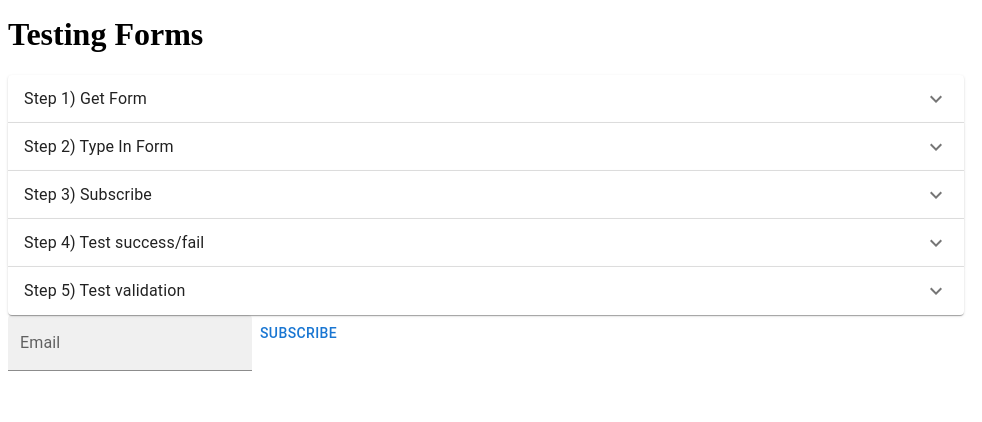
Test: Forms Test › test form failed submission
The width and height of the screenshot is (982, 422).
Expected: the heading with test id "testing-forms-header" reads "Testing Forms", [8,16,203,52]
In the field labelled "Email": (130, 343) [8,315,252,371], type "one@"
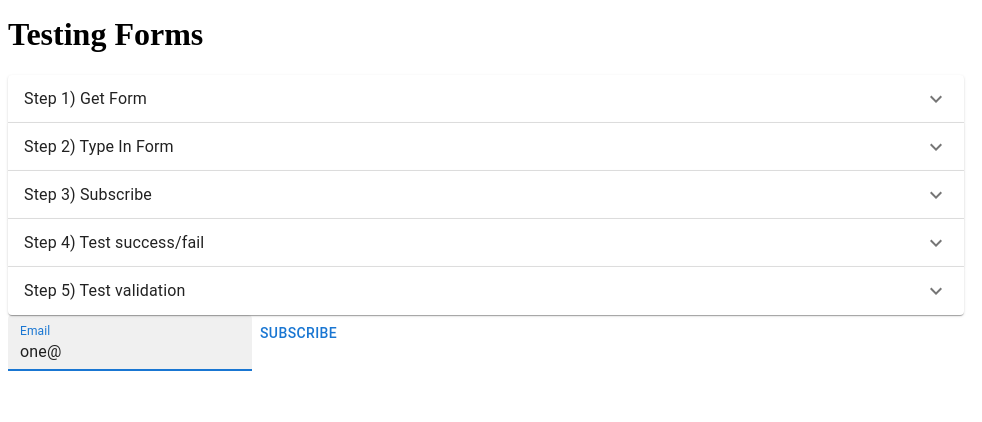
Expected: the text "invalid email" is not shown
Click the button with test id "subscribe-submit": (299, 334) [252,315,345,352]
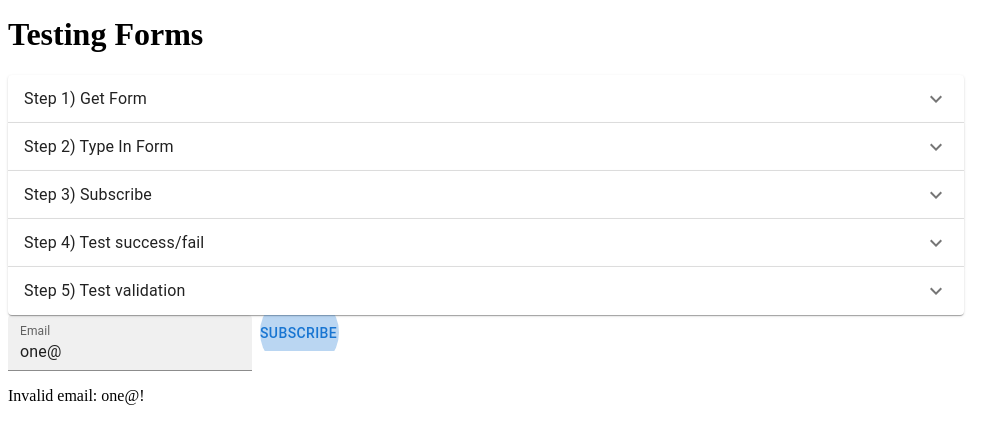
Expected: the text "Invalid email: one@!" is shown, [8,387,144,404]
